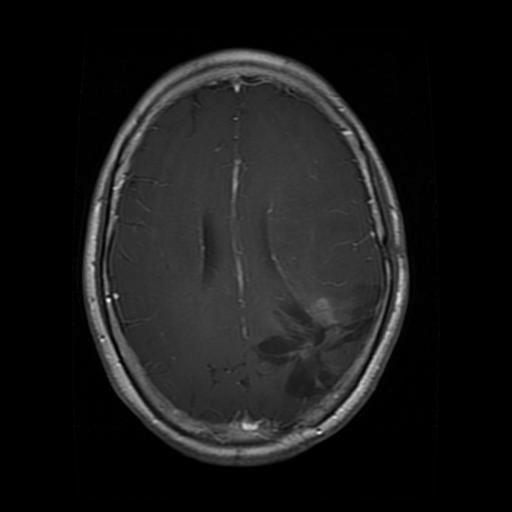Tumour-Glioma: (251, 300, 368, 396)
